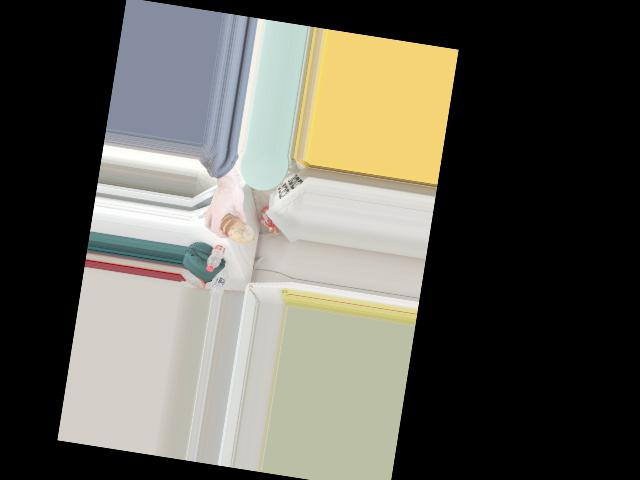sweet_potato: (218, 212, 250, 244)
